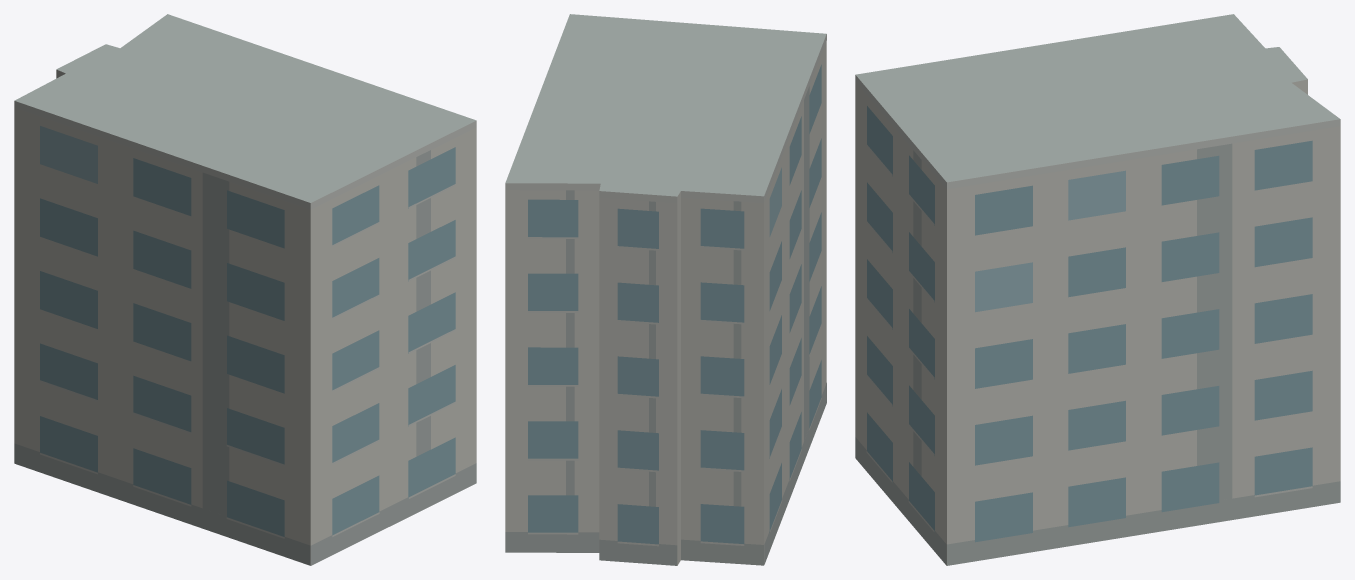
Rendered from survey-upis-32892594.glb.
3 renders of one model, left to right at view 1: azimuth 30°, elevation 25°; view 2: azimuth 150°, elevation 25°; view 3: azimuth 270°, elevation 25°, orthographic. The views are drawn at different scales.
Visible parts, largest first — view 1: survey-upis-32892594.tmp; view 2: survey-upis-32892594.tmp; view 3: survey-upis-32892594.tmp.
Part boxes in pixels (x1,y1,x2,y2): survey-upis-32892594.tmp: [14, 14, 476, 565]; survey-upis-32892594.tmp: [505, 14, 826, 565]; survey-upis-32892594.tmp: [855, 14, 1340, 565].
Bounding box in the file's own units: 12.46 × 13.22 × 15.17.
